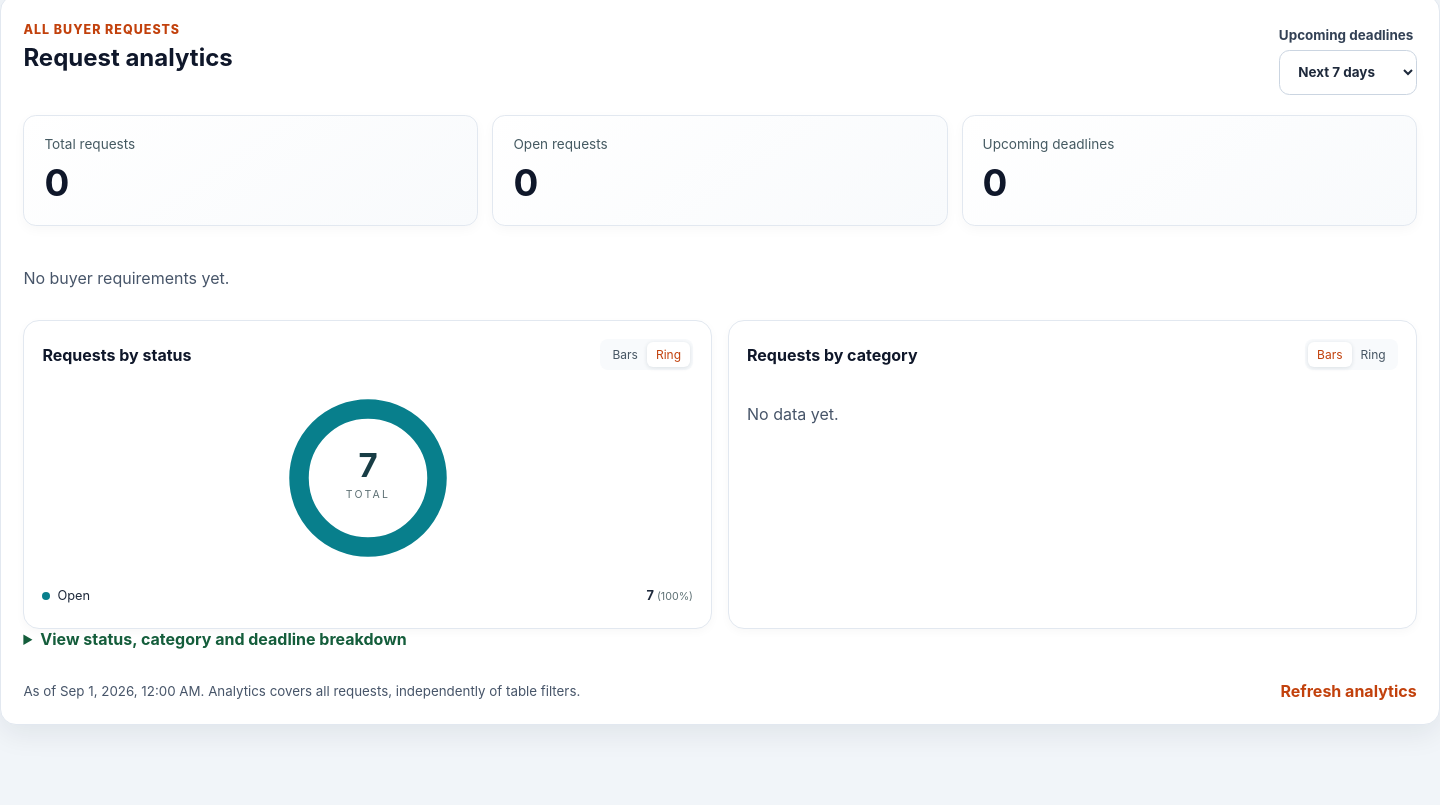
Test case: manager requirement components › analytics shows empty averages and updates its deadline window
This screenshot has width=1440, height=805.
Expected: the text "No buyer requirements yet." is shown, [23,268,229,288]
Select "Next 30 days" in the dropdown labelled "Upcoming deadlines" at (1348, 72), box [1279,50,1417,95]
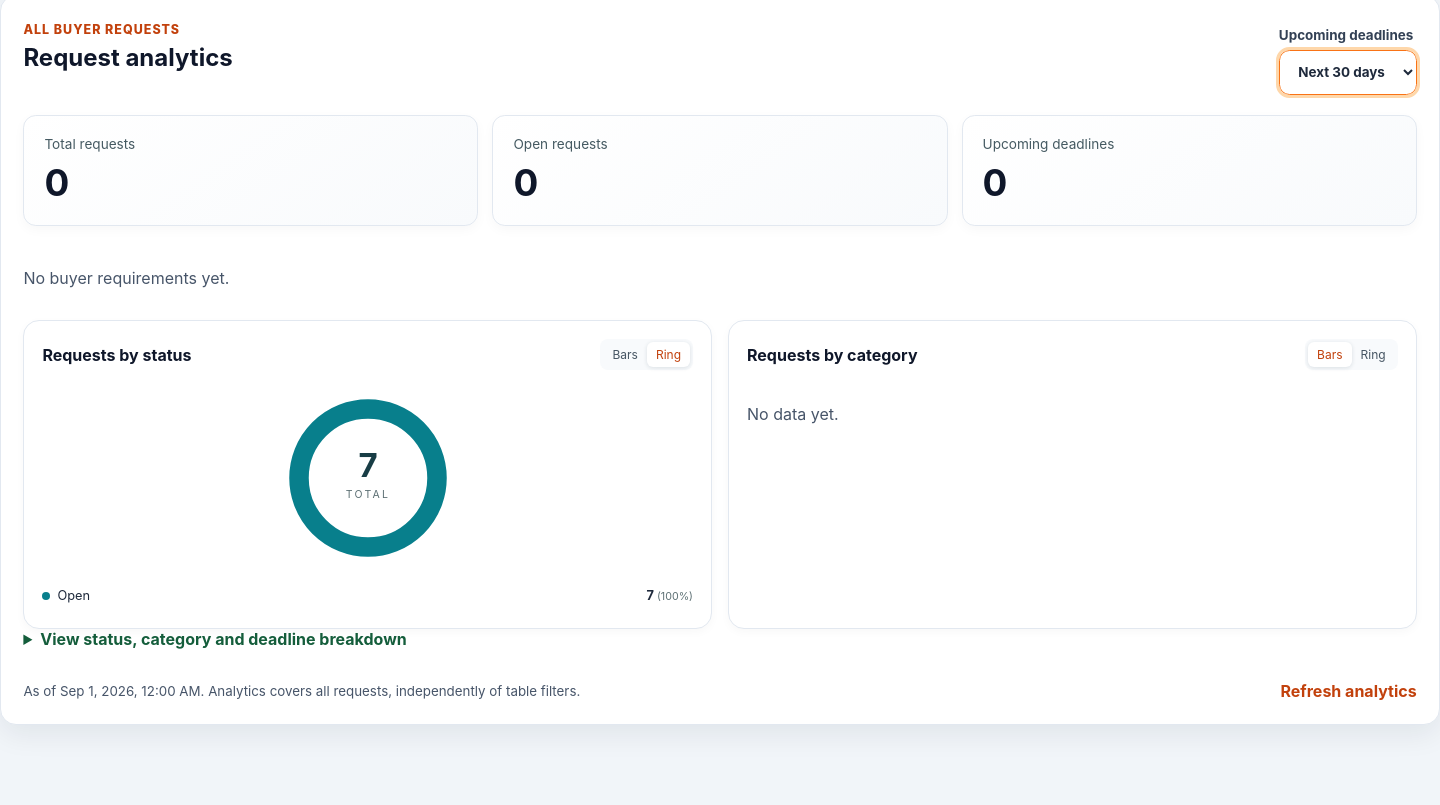
Click the heading "View status, category and deadline breakdown".
click(224, 639)  # box [40,629,407,649]
(page scrolled)
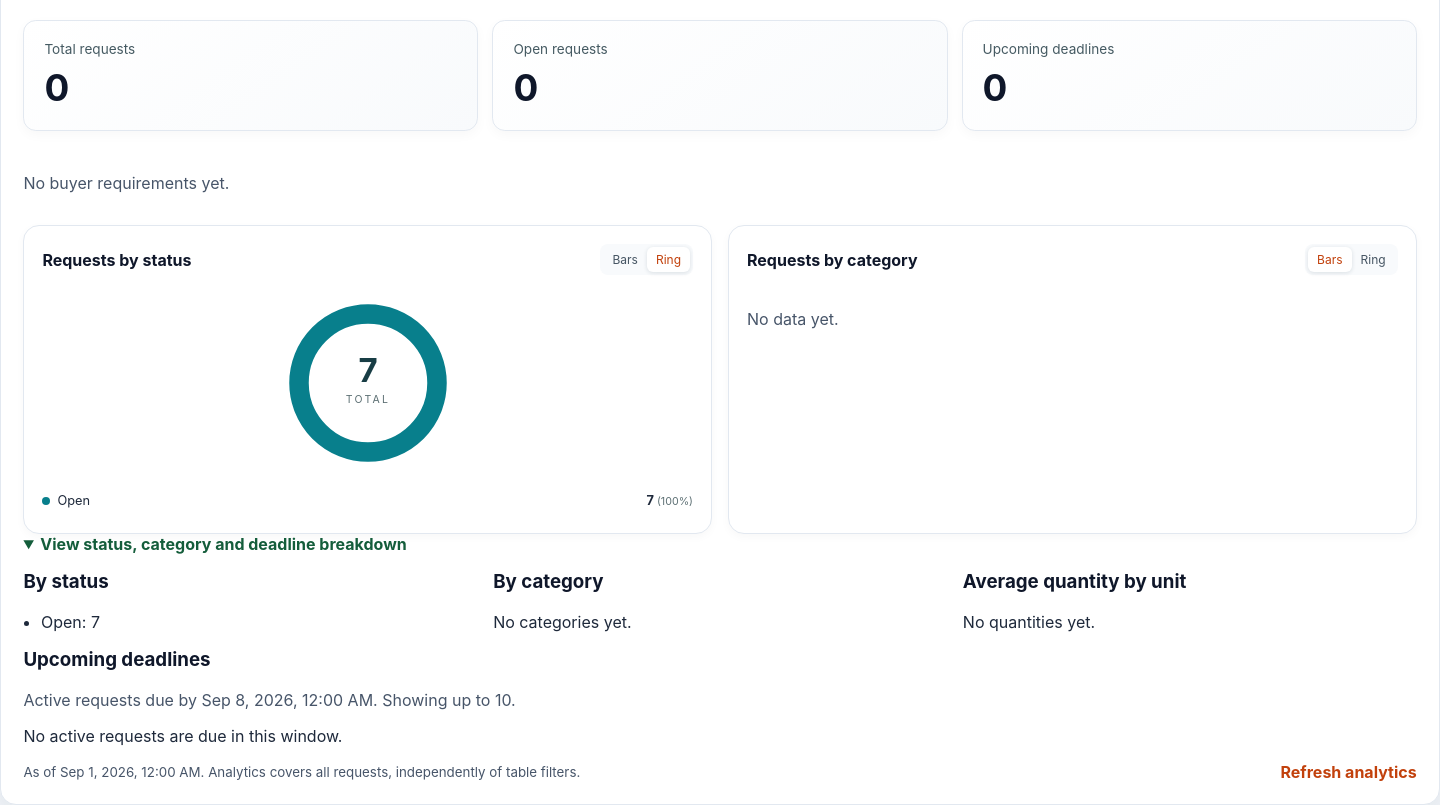
Now the text "No active requests are due in this window." is shown, box [23,726,342,746]
